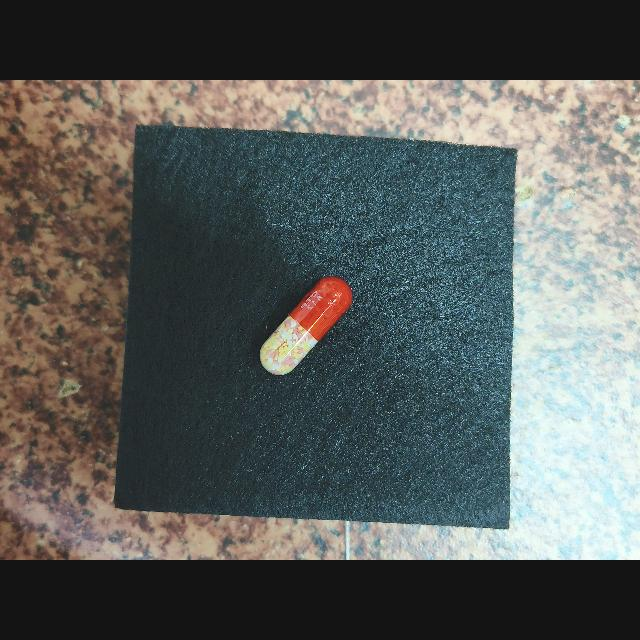Intact Capsule: (259, 276, 352, 375)
